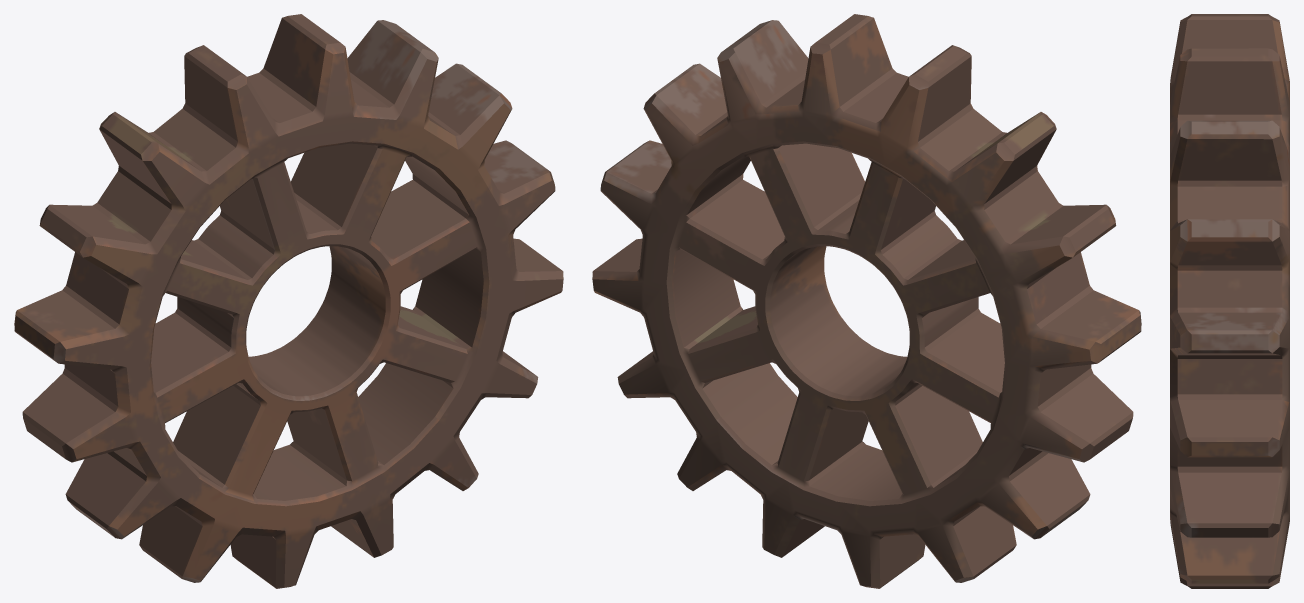
The model's file is rail_block_gear_01.fbx.
The picture shows the model from 3 angles, left to right: view 1: azimuth 30°, elevation 25°; view 2: azimuth 150°, elevation 25°; view 3: azimuth 270°, elevation 25°; orthographic projection.
Parts seen in each view (by area): view 1: rail_gear_01; view 2: rail_gear_01; view 3: rail_gear_01.
Boxes of the visible parts, left/top/right/bottom form: rail_gear_01: left=14, top=14, right=563, bottom=588; rail_gear_01: left=592, top=14, right=1141, bottom=588; rail_gear_01: left=1170, top=14, right=1289, bottom=588.
Bounding box in the file's own units: 0.781 × 0.781 × 0.1621.
